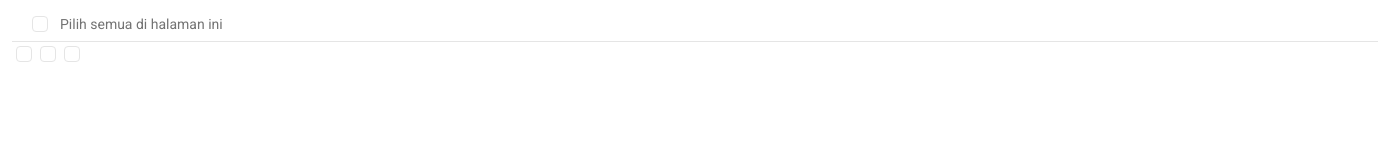
Test: bulk tagging on the member table (task 5.5) › touch layout (task 5.5a) › keeps the bar to one row on a phone: short labels and an icon-only Batal that still has its name (task 8.11)
Click the checkbox named "Pilih Ahmad".
click(24, 54)  # box [16, 46, 32, 62]
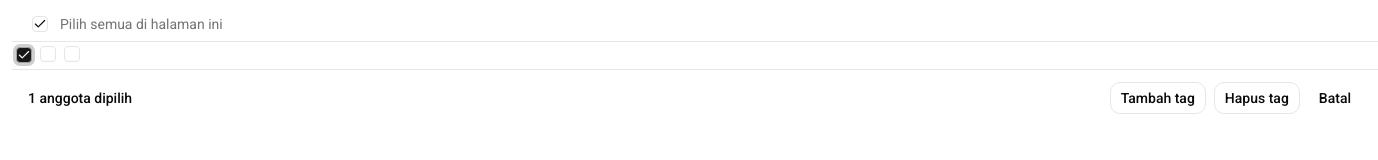
Expected: the button "Tambah tag" is shown, [1110, 82, 1206, 114]
Expected: the button "Hapus tag" is shown, [1214, 82, 1300, 114]
Click the button "Batal".
click(1335, 98)  # box [1308, 82, 1362, 114]
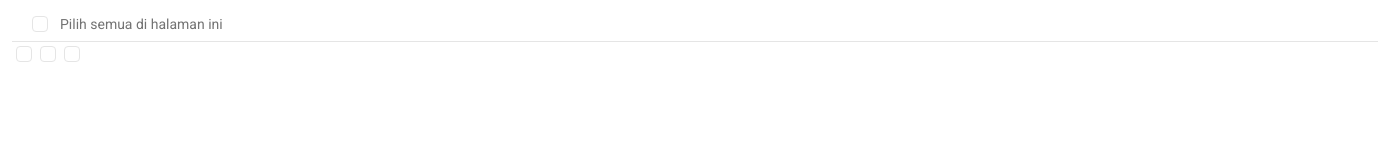
Expected: the button "Tambah tag" is gone
